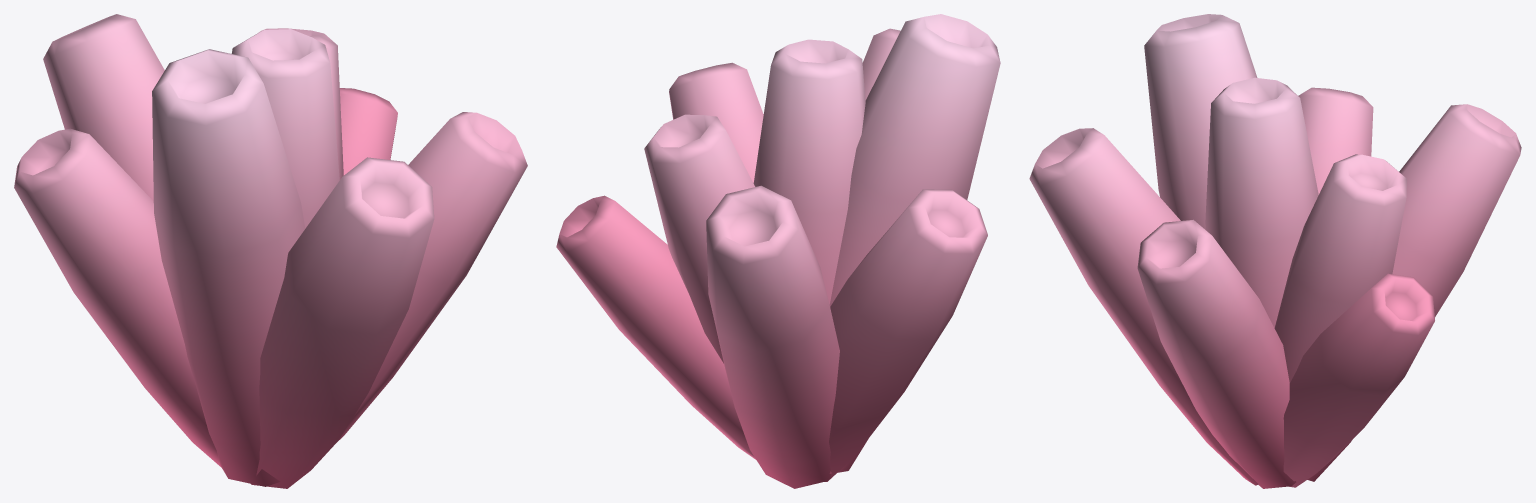
The model's file is PinkPlant.fbx.
The picture shows the model from 3 angles, left to right: view 1: azimuth 30°, elevation 25°; view 2: azimuth 150°, elevation 25°; view 3: azimuth 270°, elevation 25°; orthographic projection. The views are drawn at different scales.
Parts seen in each view (by area): view 1: Circle.002; view 2: Circle.002; view 3: Circle.002.
Part boxes in pixels (x1,y1,x2,y2): Circle.002: (14, 14, 527, 488); Circle.002: (556, 14, 1000, 488); Circle.002: (1029, 14, 1521, 488).
Bounding box in the file's own units: 990 × 1079 × 1153.
